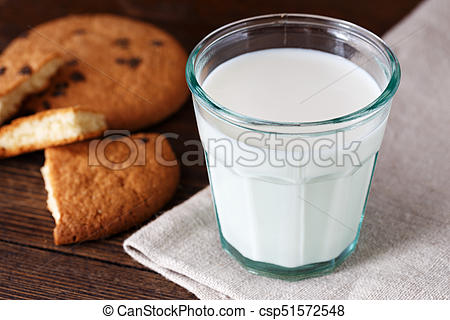glass of milk: (206, 57, 372, 275)
